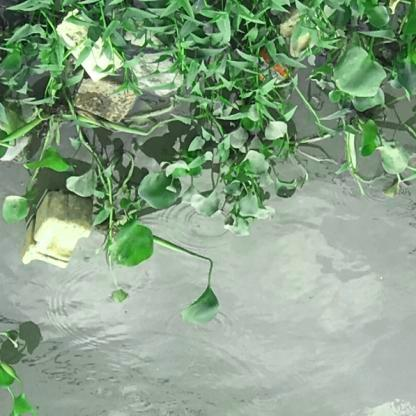Trash: (19, 191, 94, 270), (60, 18, 125, 76), (126, 42, 197, 94), (244, 58, 288, 96)
